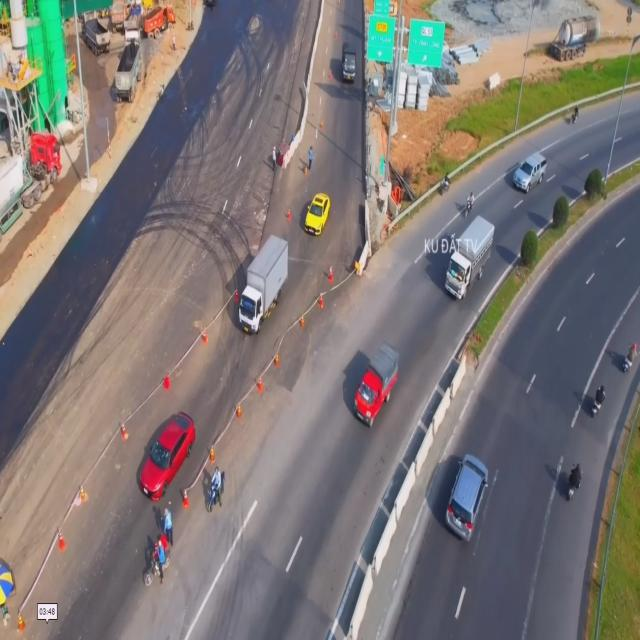car: (136, 409, 195, 498), (444, 450, 489, 542), (514, 152, 548, 193), (304, 191, 329, 239)
motorbike: (142, 538, 174, 588), (202, 466, 227, 516), (566, 462, 581, 506), (592, 383, 606, 420), (622, 343, 638, 374), (465, 193, 475, 220)
truck: (238, 235, 289, 337), (442, 213, 497, 303), (354, 343, 400, 428), (340, 41, 357, 81)
